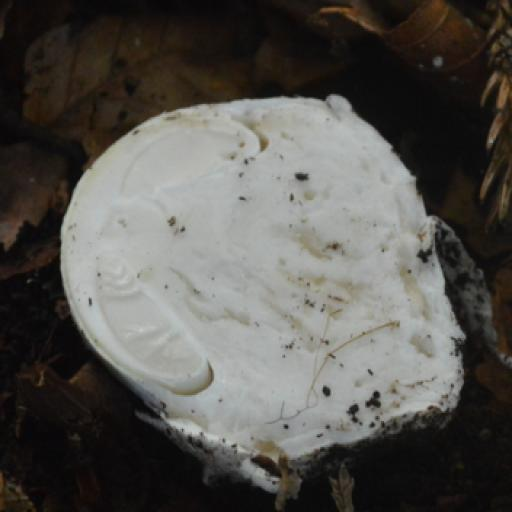mushroom: (30, 51, 484, 503)
